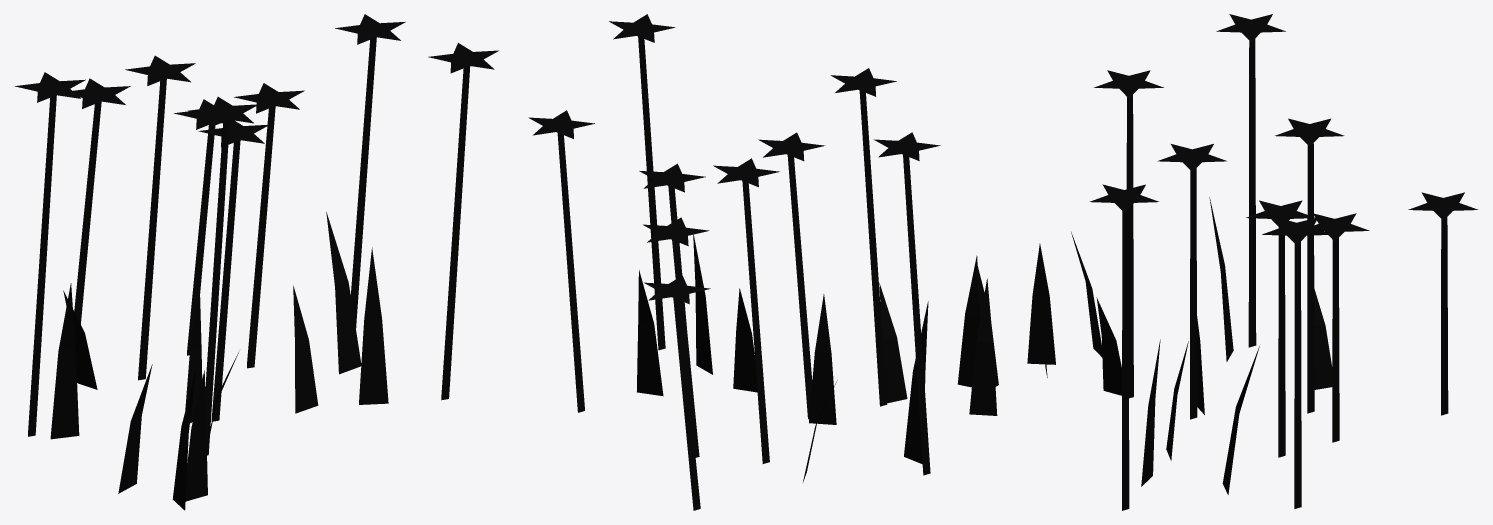
The model's file is SM_flowers_white.fbx.
3 views of the same model, side by side, from view 1: azimuth 30°, elevation 25°; view 2: azimuth 150°, elevation 25°; view 3: azimuth 270°, elevation 25° (orthographic). The views are drawn at different scales.
Visible parts, largest first — view 1: flowers_white; view 2: flowers_white; view 3: flowers_white.
Part boxes in pixels (x1=…): flowers_white: x1=15, y1=14, x2=498, y2=510; flowers_white: x1=528, y1=14, x2=998, y2=510; flowers_white: x1=1027, y1=14, x2=1478, y2=510.
Size of the model in its own units: 0.5501 by 0.4412 by 0.5472.
